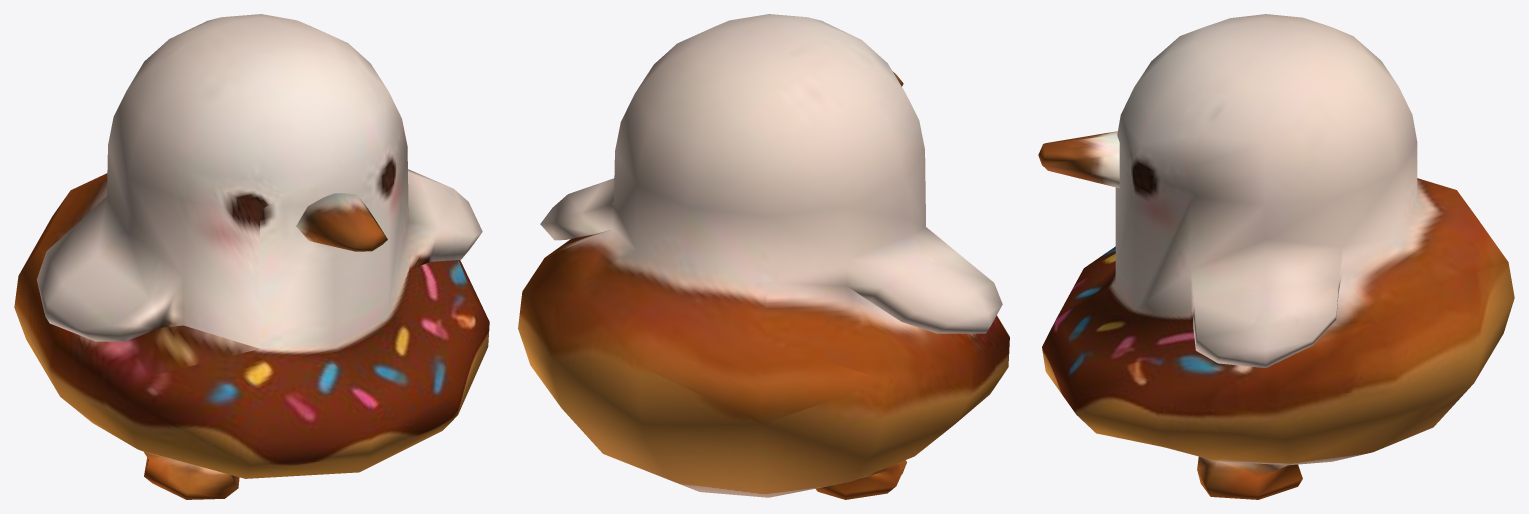
Rendered from penguin-10-23-donut-ring-clay-penguin.gltf.
3 views of the same model, side by side, from view 1: azimuth 30°, elevation 25°; view 2: azimuth 150°, elevation 25°; view 3: azimuth 270°, elevation 25° (orthographic). The views are drawn at different scales.
Parts seen in each view (by area): view 1: penguin-10-23-donut-ring-clay-penguin; view 2: penguin-10-23-donut-ring-clay-penguin; view 3: penguin-10-23-donut-ring-clay-penguin.
Part boxes in pixels (x1=…): penguin-10-23-donut-ring-clay-penguin: x1=14, y1=14, x2=489, y2=499; penguin-10-23-donut-ring-clay-penguin: x1=518, y1=14, x2=1009, y2=499; penguin-10-23-donut-ring-clay-penguin: x1=1038, y1=14, x2=1514, y2=499.
Size of the model in its own units: 0.2 by 0.1904 by 0.1959.
Materials: 1 (1 with a texture image).
